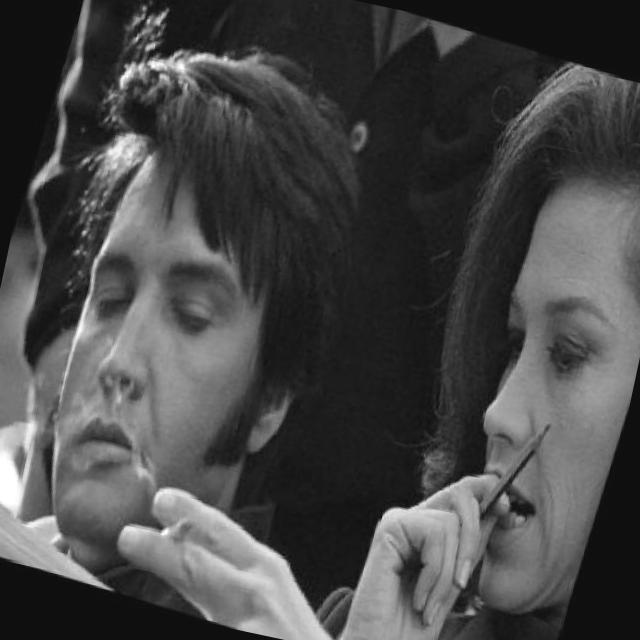smoke: (155, 508, 198, 550)
